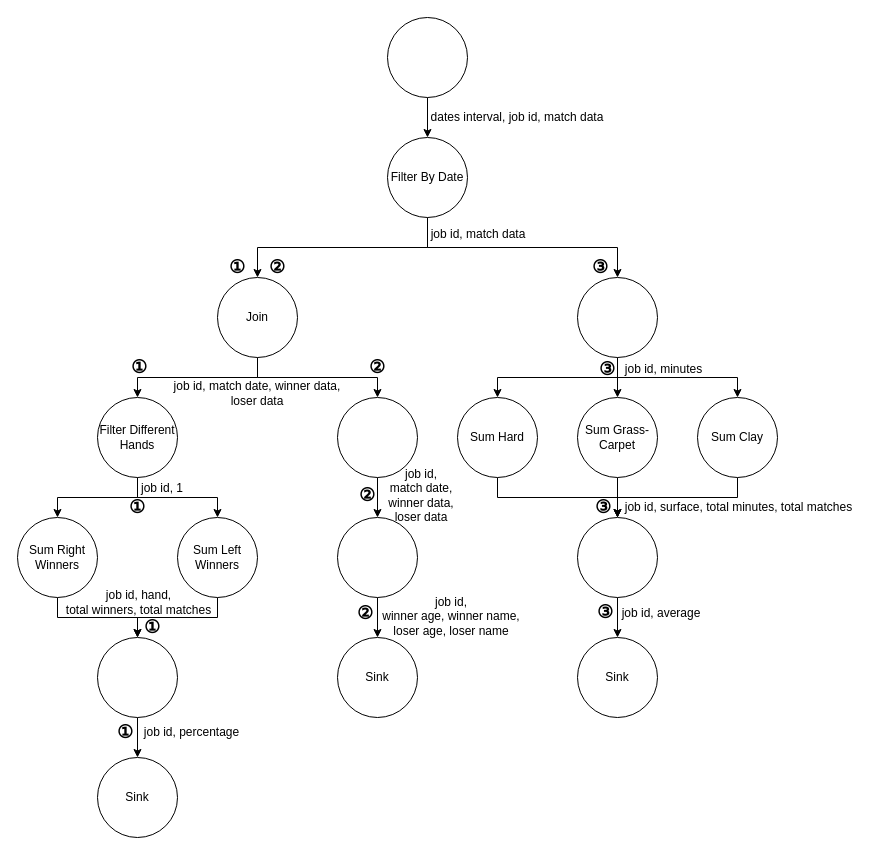
Some shapes in this 875 by 855 pixel diagram are drawn without their labels. Each missing label, with the centre of its shape:
"Calculate Average By Surface" belongs at (617,557).
"Calculate Percentage By Hand" belongs at (137,677).
"Calculate Players Age" belongs at (377,437).
"Dispatch By Surface" belongs at (617,317).
"Filter By Age Difference" belongs at (377,557).
"Source" belongs at (427,57).
